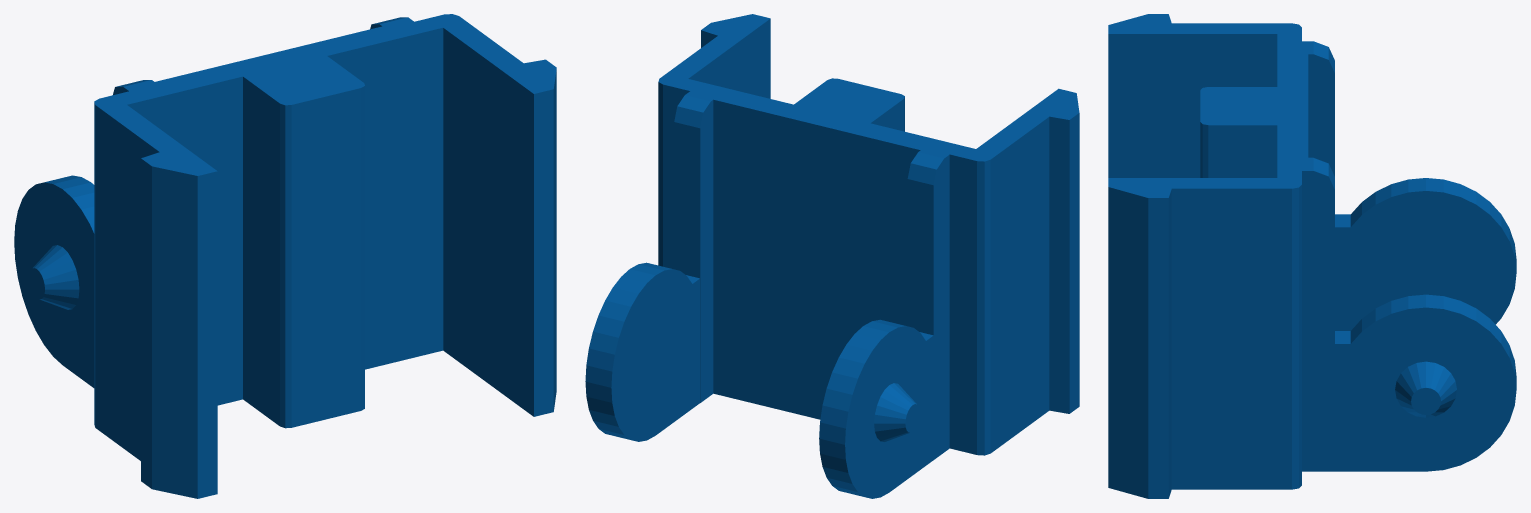
File: cableChain_40MountTop_v2-78.glb
3 views of the same model, side by side, from view 1: azimuth 30°, elevation 25°; view 2: azimuth 150°, elevation 25°; view 3: azimuth 270°, elevation 25° (orthographic). The views are drawn at different scales.
Bounding box in the file's own units: 28.86 × 22 × 27.05.
